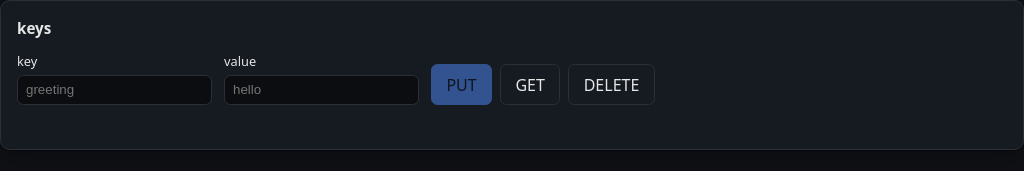
Test: KVForm › reports a missing key on GET
Type "missing" into the field labelled "key" at [114, 90], box [17,75,212,105]
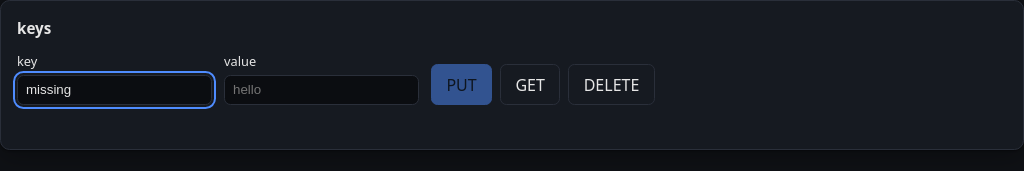
Click the button "GET" at [530, 85], box [500,64,560,105]
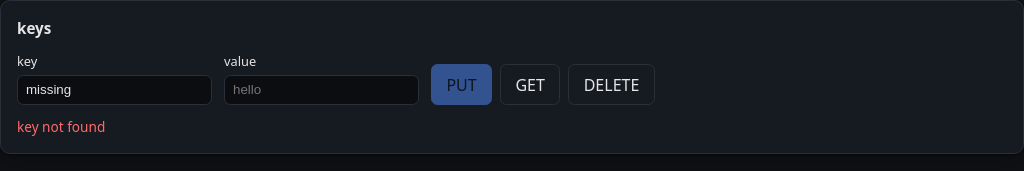
Now the text "key not found" is shown, box [17,117,105,136]
